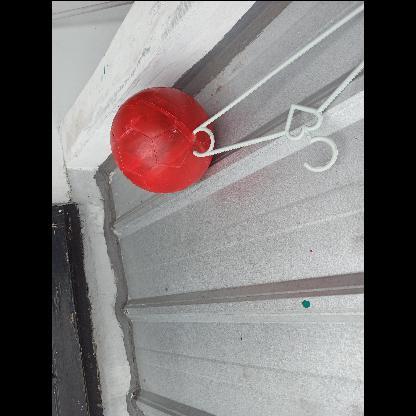red_ball: (108, 89, 214, 194)
